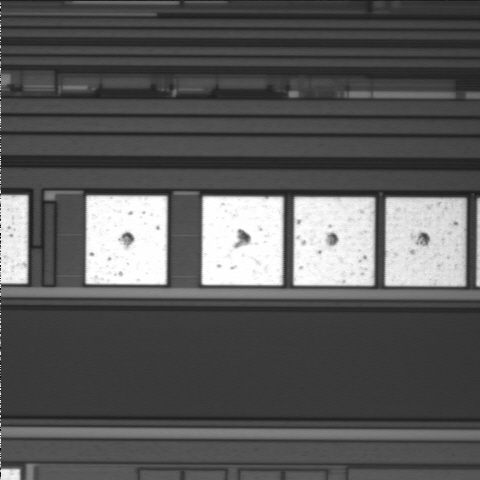pad: (86, 196, 167, 285), (202, 196, 283, 285), (294, 197, 375, 286), (385, 198, 466, 286)
